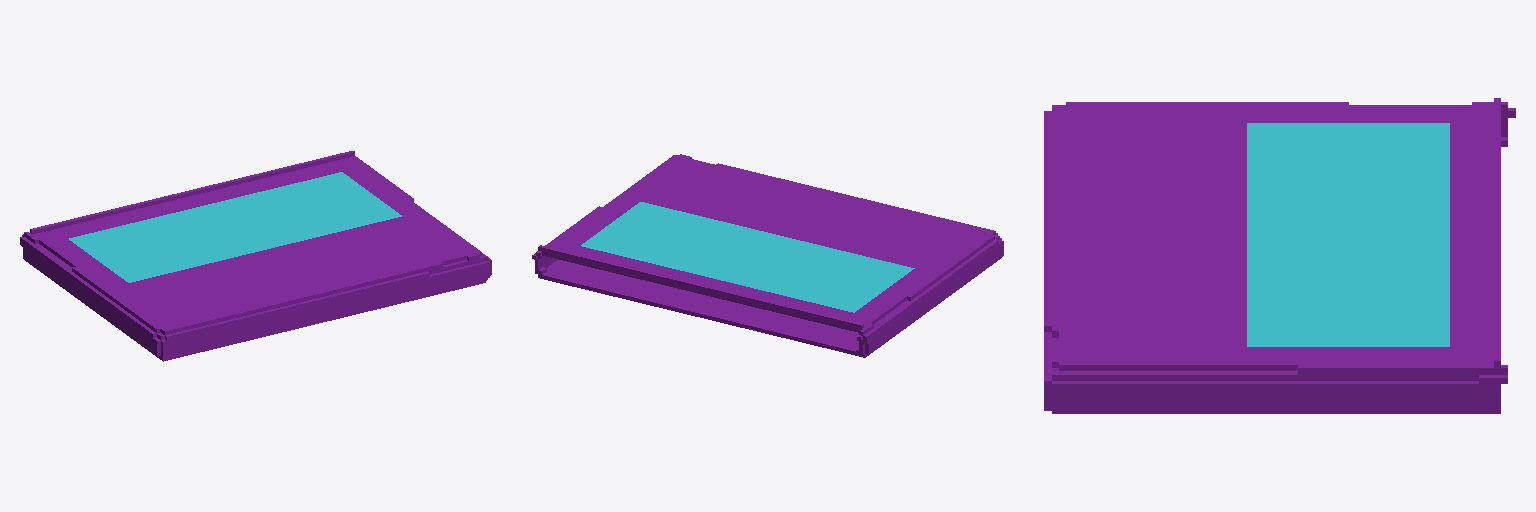
URDF robot description (physxnet_10076_strict):
<?xml version='1.0' encoding='utf-8'?>
<robot name="physxnet_10076_strict">
  <link name="l_world">
    <inertial>
      <origin xyz="0 0 0" rpy="0 0 0" />
      <mass value="0.0100000000" />
      <inertia ixx="0.0000001667" ixy="0.0" ixz="0.0" iyy="0.0000001667" iyz="0.0" izz="0.0000001667" />
    </inertial>
  </link><link name="l_0">
    <inertial>
      <origin xyz="-0.0012654208 0.1198278244 0.0136065803" rpy="0 0 0" />
      <mass value="0.0387391829" />
      <inertia ixx="0.0001329155" ixy="0.0" ixz="0.0" iyy="0.0004352480" iyz="0.0" izz="0.0003346714" />
    </inertial><visual>
      <origin xyz="0 0 0" rpy="0 0 0" />
      <geometry>
        <mesh filename="../rigid_visuals/part_000_visual.obj" scale="1 1 1" />
      </geometry><material name="mat_l_0">
        <color rgba="0.32548 0.48041 0.93131 1.00000" />
      </material>
    </visual><collision>
      <origin xyz="0 0 0" rpy="0 0 0" />
      <geometry>
        <mesh filename="part_000_collision.obj" scale="1 1 1" />
      </geometry>
    </collision>
  </link><joint name="joint_fixed_l_world_l_0" type="fixed">
    <parent link="l_world" />
    <child link="l_0" />
    <origin xyz="0 0 0" rpy="0 0 0" />
  </joint><link name="l_1">
    <inertial>
      <origin xyz="-0.0000068270 0.1229668417 0.0003184531" rpy="0 0 0" />
      <mass value="0.1536911614" />
      <inertia ixx="0.0009181619" ixy="0.0" ixz="0.0" iyy="0.0023624466" iyz="0.0" izz="0.0016900684" />
    </inertial><visual>
      <origin xyz="0 0 0" rpy="0 0 0" />
      <geometry>
        <mesh filename="../rigid_visuals/part_001_visual.obj" scale="1 1 1" />
      </geometry><material name="mat_l_1">
        <color rgba="0.15447 0.35718 0.26453 1.00000" />
      </material>
    </visual><collision>
      <origin xyz="0 0 0" rpy="0 0 0" />
      <geometry>
        <mesh filename="part_001_collision.obj" scale="1 1 1" />
      </geometry>
    </collision>
  </link><joint name="joint_fixed_l_0_l_1" type="fixed">
    <parent link="l_0" />
    <child link="l_1" />
    <origin xyz="0 0 0" rpy="0 0 0" />
  </joint><link name="l_2">
    <inertial>
      <origin xyz="0.0000227568 -0.0073053622 -0.1009476382" rpy="0 0 0" />
      <mass value="0.0001598899" />
      <inertia ixx="0.0000001533" ixy="0.0" ixz="0.0" iyy="0.0000011293" iyz="0.0" izz="0.0000012826" />
    </inertial><visual>
      <origin xyz="0 0 0" rpy="0 0 0" />
      <geometry>
        <mesh filename="../rigid_visuals/part_002_visual.obj" scale="1 1 1" />
      </geometry><material name="mat_l_2">
        <color rgba="0.29417 0.82410 0.87988 1.00000" />
      </material>
    </visual><collision>
      <origin xyz="0 0 0" rpy="0 0 0" />
      <geometry>
        <mesh filename="part_002_collision.obj" scale="1 1 1" />
      </geometry>
    </collision>
  </link><joint name="joint_fixed_l_1_l_2" type="fixed">
    <parent link="l_1" />
    <child link="l_2" />
    <origin xyz="0 0 0" rpy="0 0 0" />
  </joint><link name="l_3">
    <inertial>
      <origin xyz="-0.0000000000 -0.0448991833 -0.1112752469" rpy="0 0 0" />
      <mass value="0.0436567423" />
      <inertia ixx="0.0002375865" ixy="0.0" ixz="0.0" iyy="0.0004483685" iyz="0.0" izz="0.0006805432" />
    </inertial><visual>
      <origin xyz="0 0 0" rpy="0 0 0" />
      <geometry>
        <mesh filename="../rigid_visuals/part_003_visual.obj" scale="1 1 1" />
      </geometry><material name="mat_l_3">
        <color rgba="0.55944 0.19916 0.68114 1.00000" />
      </material>
    </visual><collision>
      <origin xyz="0 0 0" rpy="0 0 0" />
      <geometry>
        <mesh filename="part_003_collision.obj" scale="1 1 1" />
      </geometry>
    </collision>
  </link><joint name="joint_fixed_l_2_l_3" type="fixed">
    <parent link="l_2" />
    <child link="l_3" />
    <origin xyz="0 0 0" rpy="0 0 0" />
  </joint>
</robot>

--- Render facts (derived) ---
The picture shows the robot from 3 angles, left to right: view 1: azimuth 30°, elevation 25°; view 2: azimuth 150°, elevation 25°; view 3: azimuth 270°, elevation 25°; orthographic projection.
Robot: physxnet_10076_strict — 5 links, 4 joints (4 fixed); root link l_world; default pose: all joints at 0.
Visible links, largest first — view 1: l_3, l_2; view 2: l_3, l_2; view 3: l_3, l_2.
Link boxes in pixels (bbox=[...]): l_3: bbox=[20, 151, 491, 361]; l_2: bbox=[69, 172, 401, 282]; l_3: bbox=[532, 154, 1003, 357]; l_2: bbox=[581, 202, 914, 312]; l_3: bbox=[1044, 98, 1515, 413]; l_2: bbox=[1247, 123, 1449, 346].
Size in the robot's own frame: 0.356 by 0.26 by 0.032 metres.
2 mesh visuals loaded from 4 distinct referenced files (2 OBJ); not drawn: 2 (reference not matched to a file when rendering).
